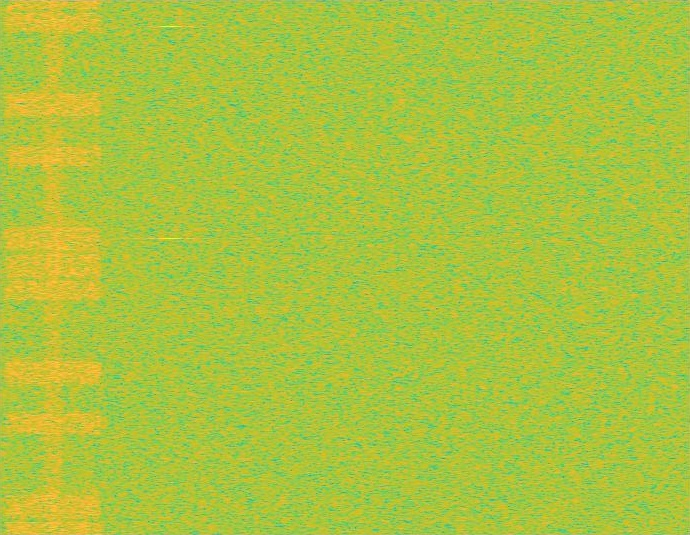DSSS: (42, 0, 65, 534)
LTE: (2, 0, 105, 534)
Radar: (164, 0, 178, 534)
